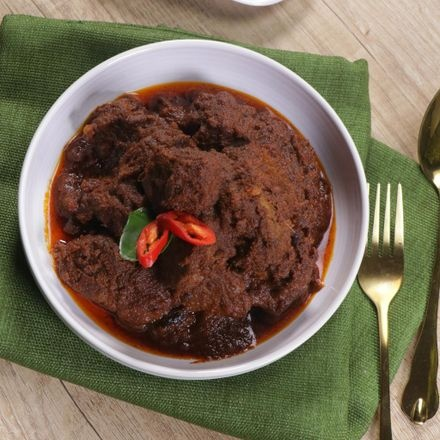Rendang: (52, 88, 334, 362)
